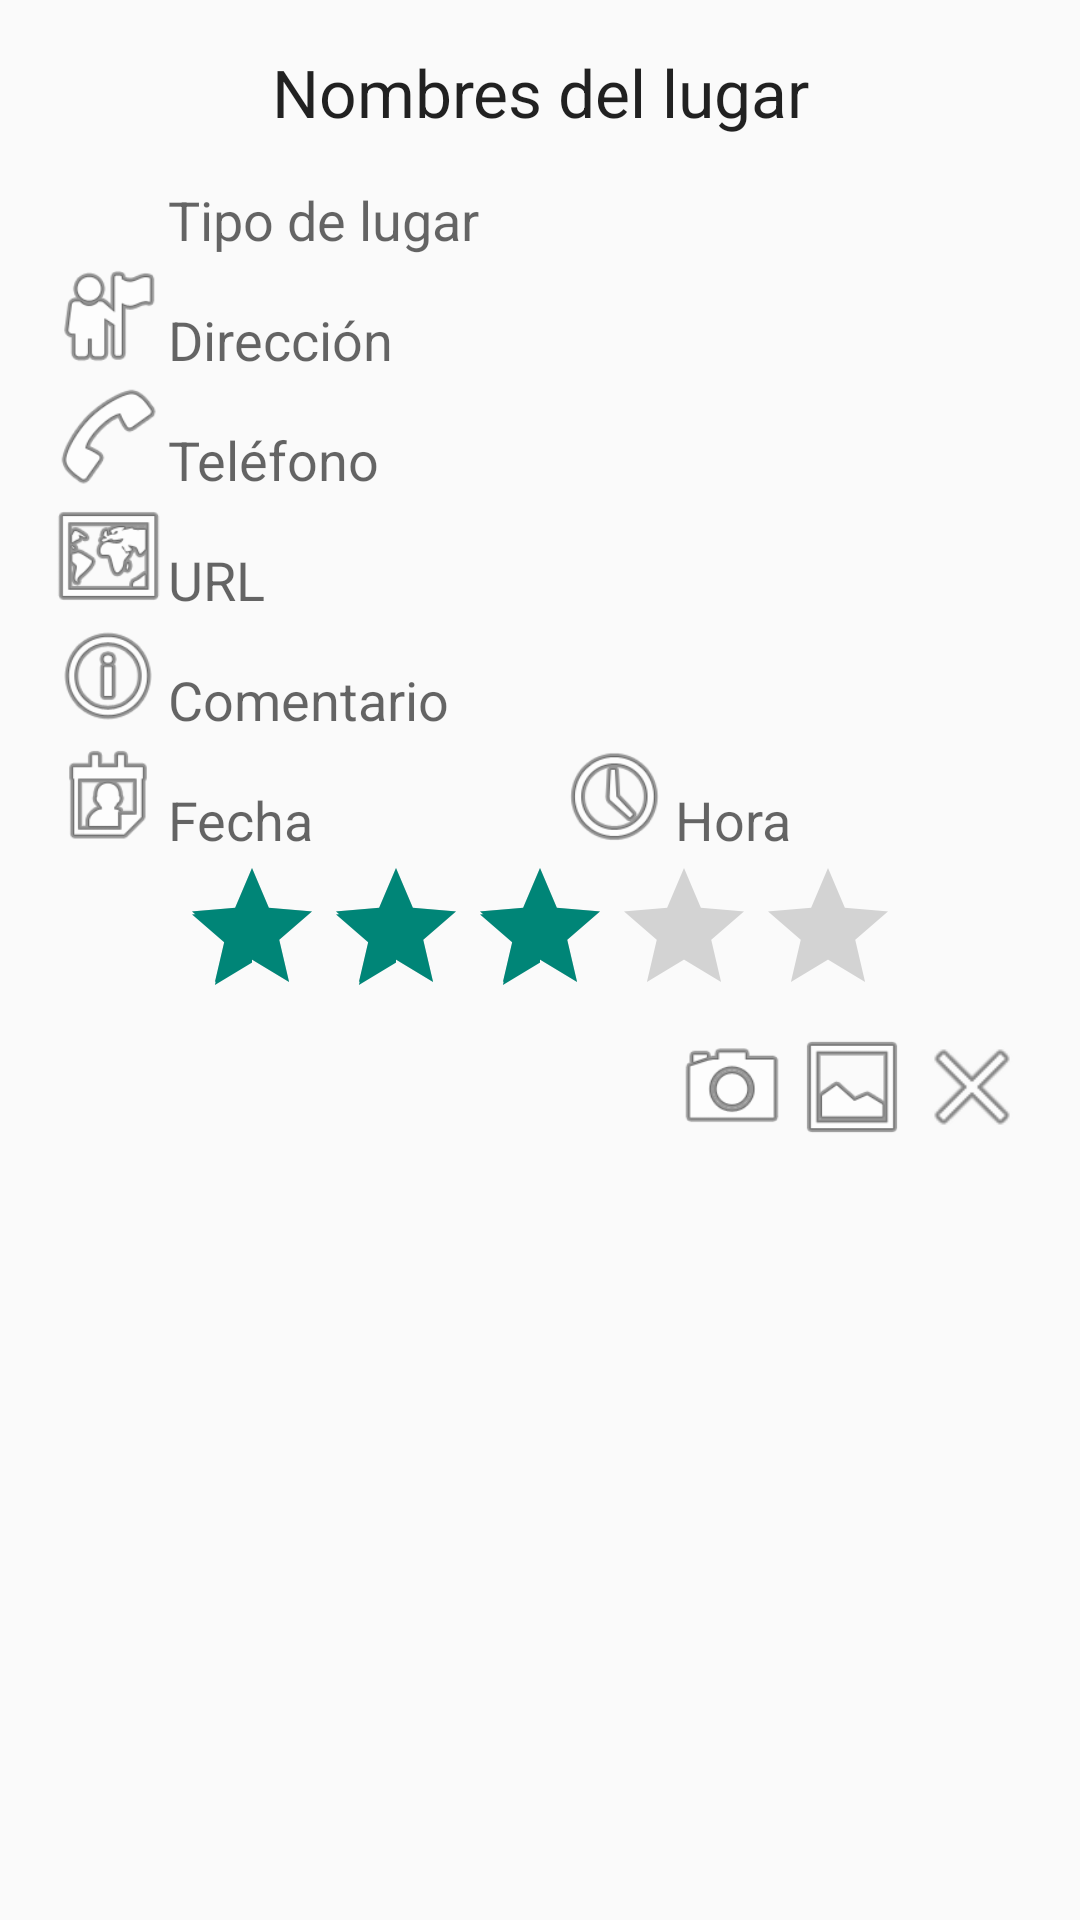

Screen size 1080 x 1920. Icon name, then its center in pixels as (x,y):
Eliminar foto: (972,1087)
